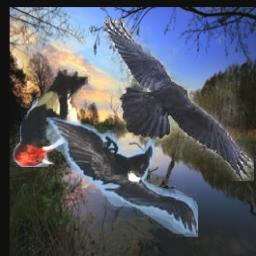Crow: (103, 19, 255, 182), (47, 117, 199, 237)
Woodpecker: (13, 68, 99, 167)
